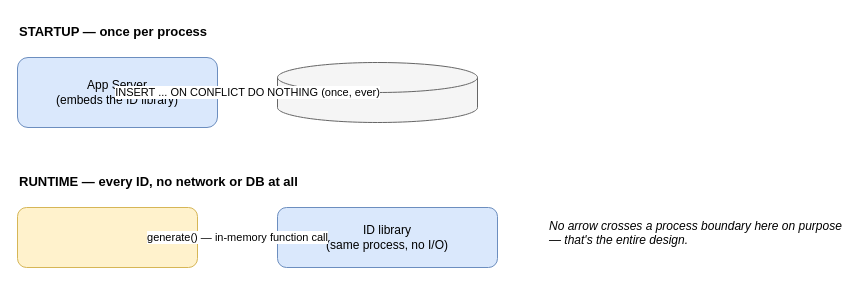
Some shapes in this 865 by 285 pixel diagram are drawn without their labels. Here are the shapes that lost their labels. From the top down, the box of each, then its label:
(276, 62, 478, 122): SQL worker_id_registry
(16, 206, 198, 268): Caller (in-process)
